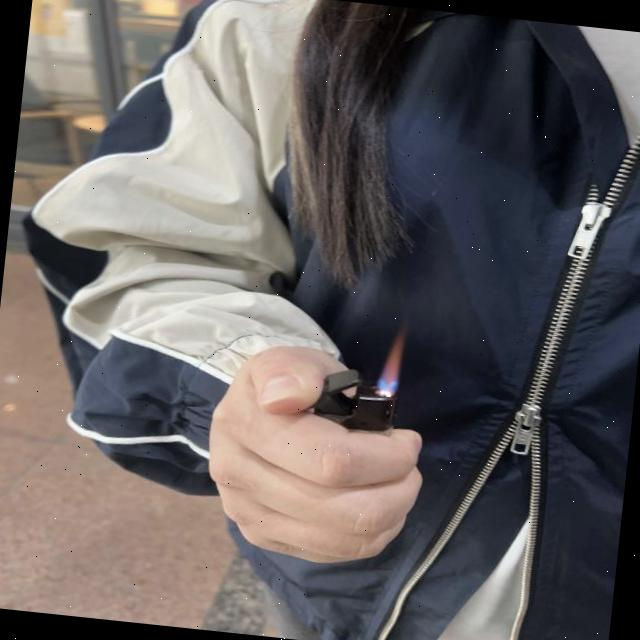fire: (376, 328, 408, 398)
